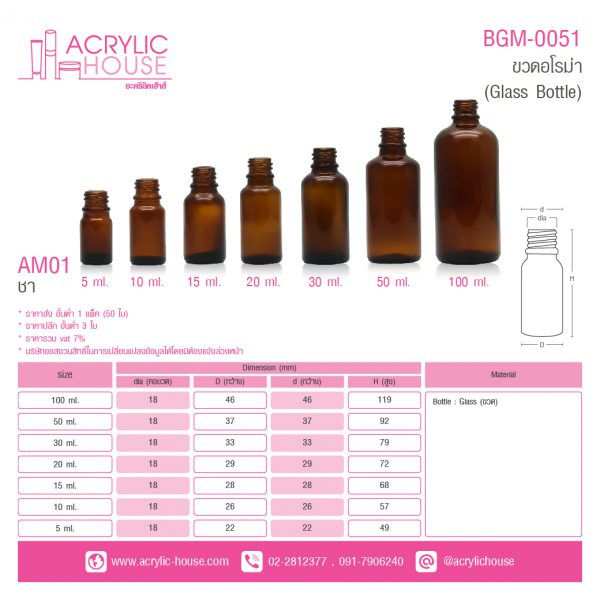glass_bottle: (430, 96, 508, 271), (360, 118, 423, 269), (300, 145, 351, 270), (235, 155, 287, 269), (179, 164, 230, 267), (125, 176, 170, 269), (77, 187, 116, 268)
